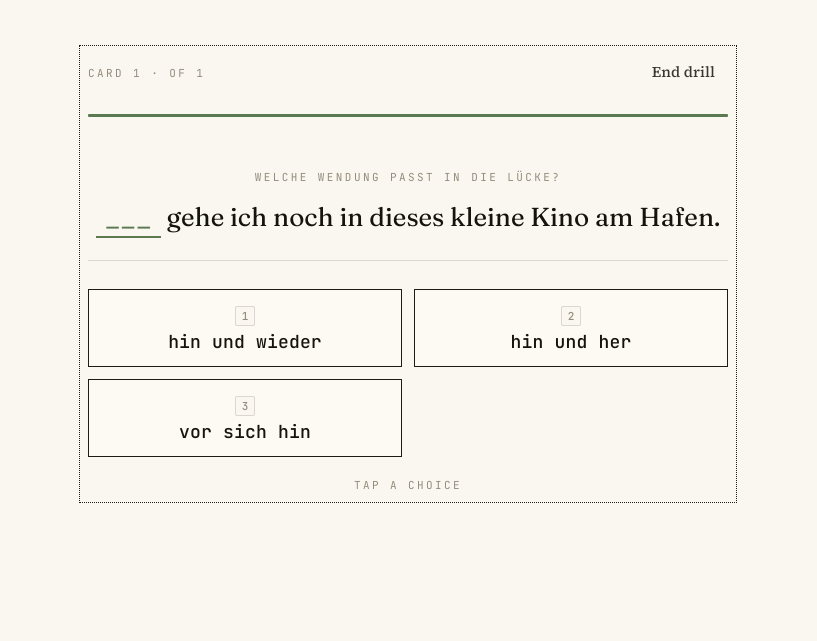
Test: IdiomRunner — the summary › lists every card as its filled sentence
Click the button with class "choice" showing "1 hin und wieder" at {"x": 245, "y": 328}, box [88,289,402,367]
(page scrolled)
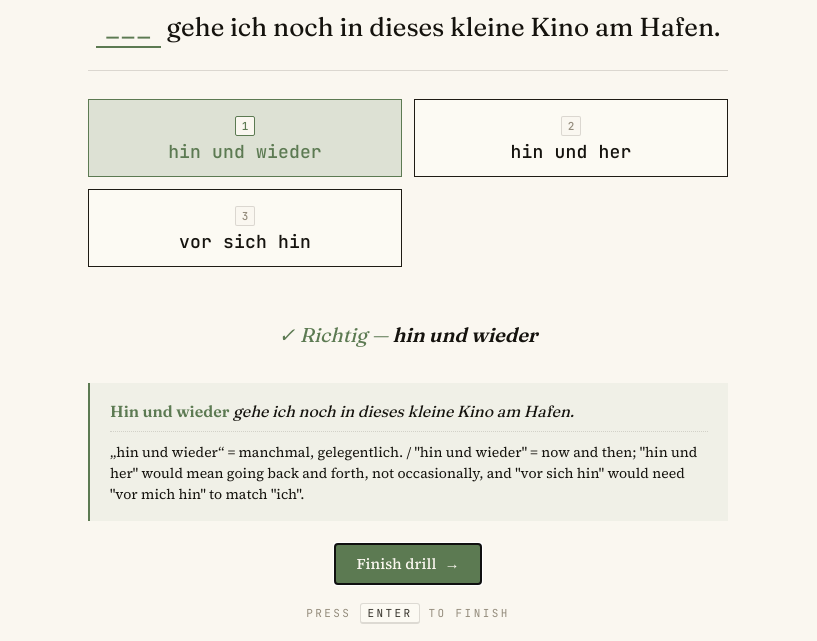
Click the button "Finish drill →" at {"x": 408, "y": 564}, box [334,543,482,585]
(page scrolled)
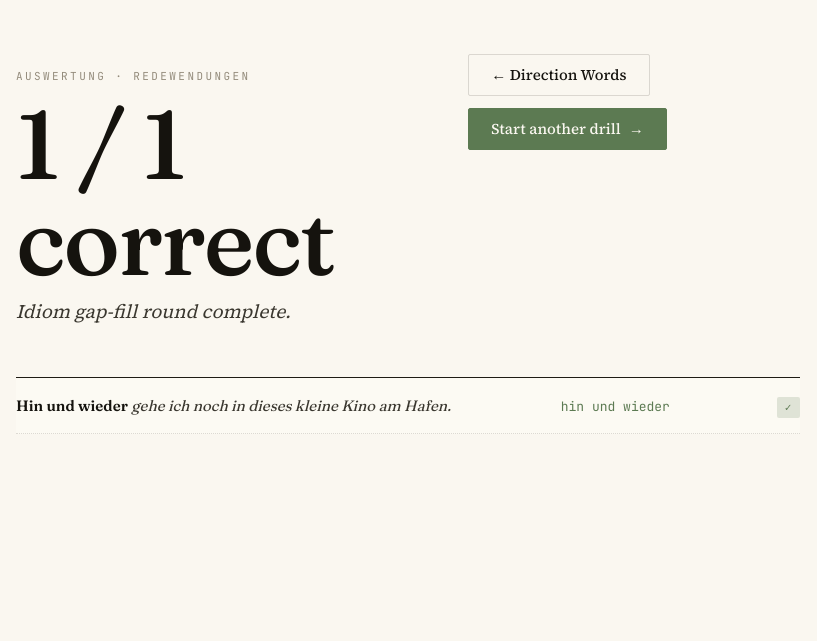
Result: the element with class "result-sentence" reads "Hin und wieder gehe ich noch in dieses kleine Kino am Hafen." at [16,396,451,415]
Result: the text with class "result-score" shows "1 / 1" at [16,85,334,299]
Result: the number of elements with class "drill-result-row" is 1 at [16,378,800,434]
